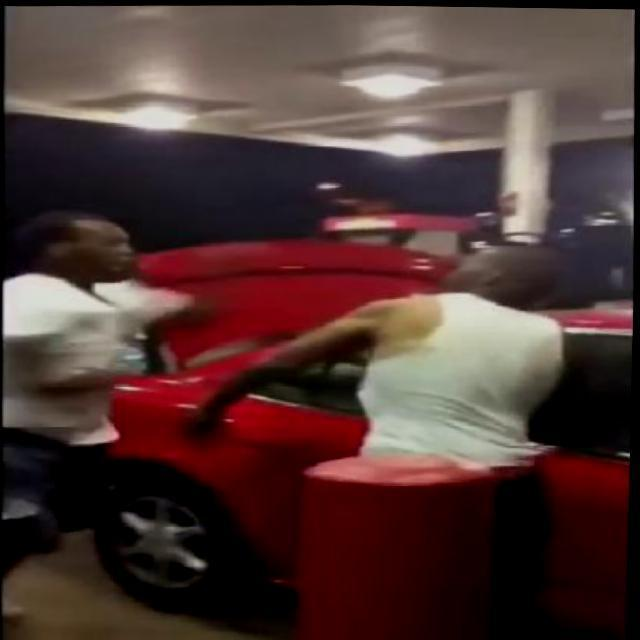fight: (0, 199, 577, 472)
